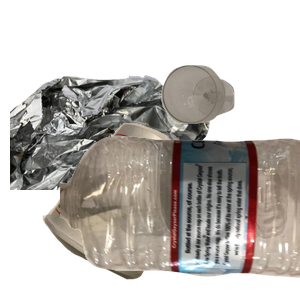glass: (159, 63, 300, 179)
metal: (10, 73, 212, 253)
plastic: (60, 134, 300, 300)
trash: (40, 121, 221, 300)
